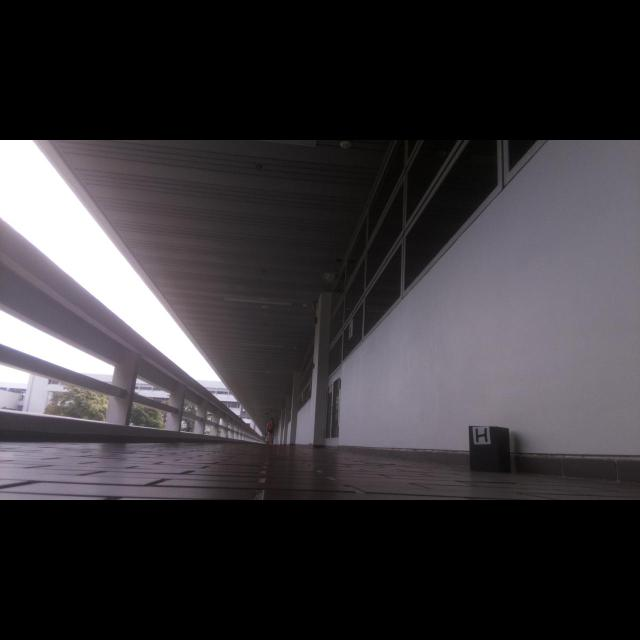H: (476, 428, 487, 443)
